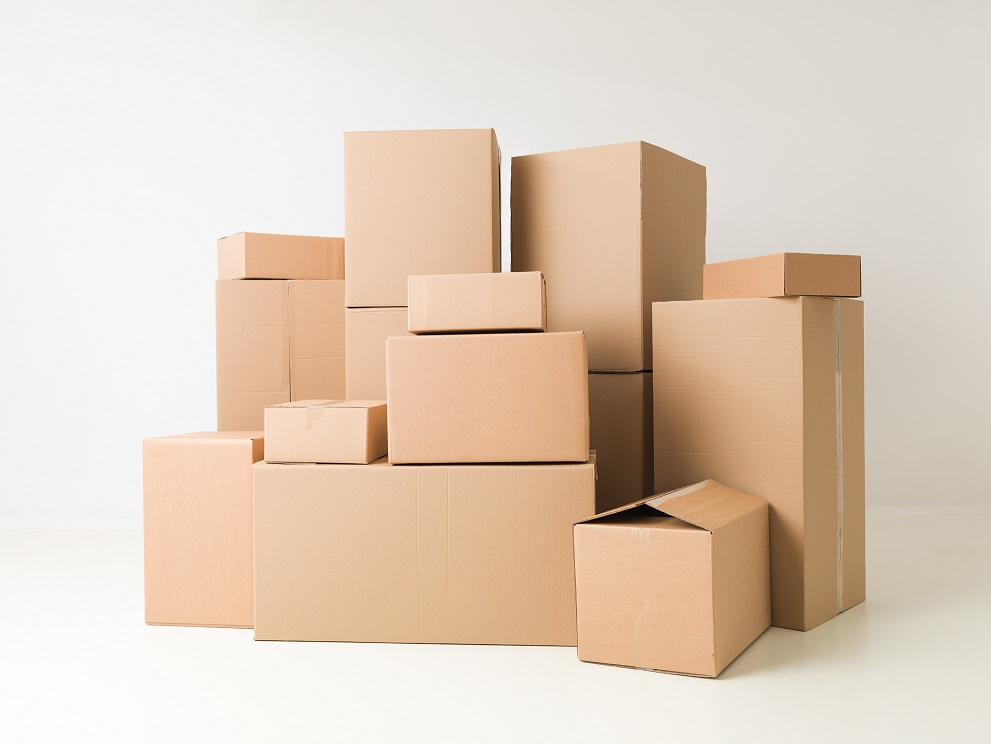box: (651, 299, 865, 632), (255, 465, 596, 648), (509, 152, 706, 370), (578, 479, 772, 680), (341, 131, 500, 305), (384, 333, 589, 462), (142, 429, 259, 626), (212, 279, 354, 433), (407, 273, 549, 331), (263, 400, 385, 462), (705, 252, 866, 298), (216, 232, 346, 281)
